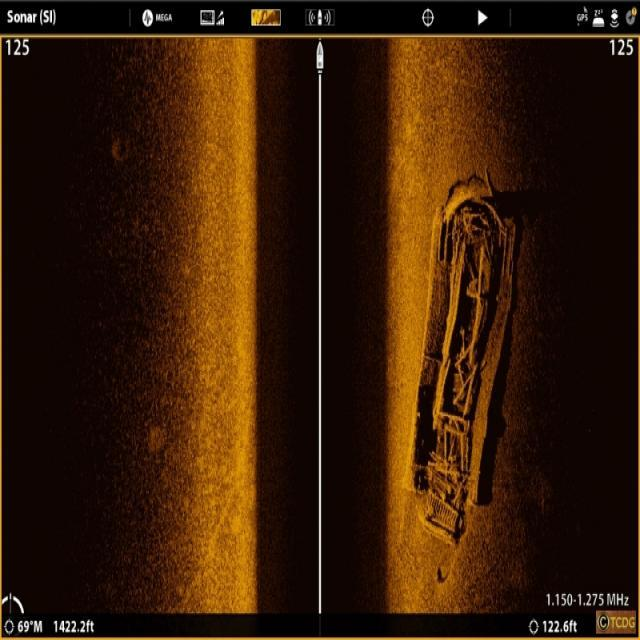shipwreck: (412, 169, 506, 548)
